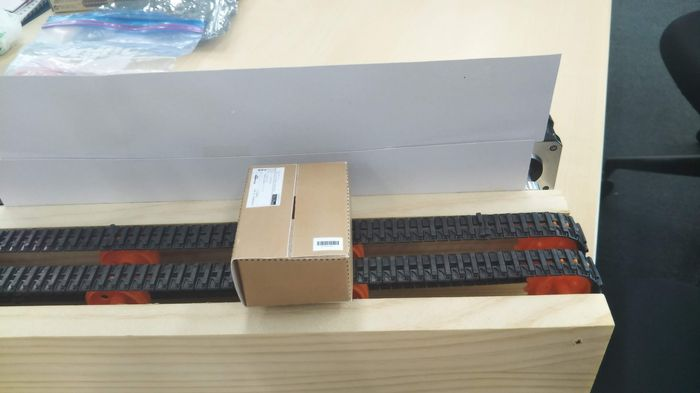box1: (227, 159, 355, 309)
